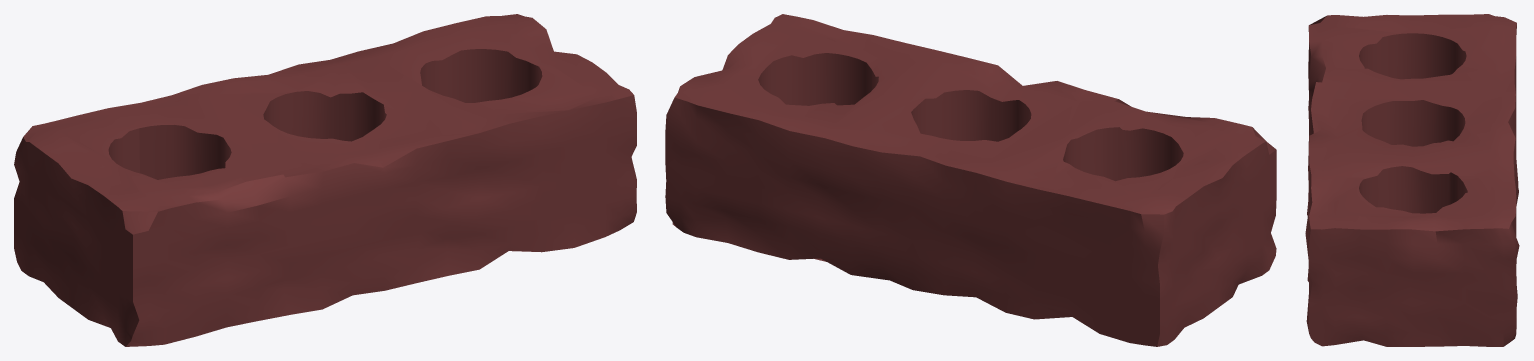
File: Brick.fbx
3 views of the same model, side by side, from view 1: azimuth 30°, elevation 25°; view 2: azimuth 150°, elevation 25°; view 3: azimuth 270°, elevation 25° (orthographic). The views are drawn at different scales.
Parts seen in each view (by area): view 1: Cube; view 2: Cube; view 3: Cube.
Boxes of the visible parts, x1=… form: Cube: x1=14, y1=14, x2=636, y2=346; Cube: x1=665, y1=14, x2=1276, y2=346; Cube: x1=1305, y1=14, x2=1519, y2=346.
Size of the model in its own units: 426 by 112 by 178.
